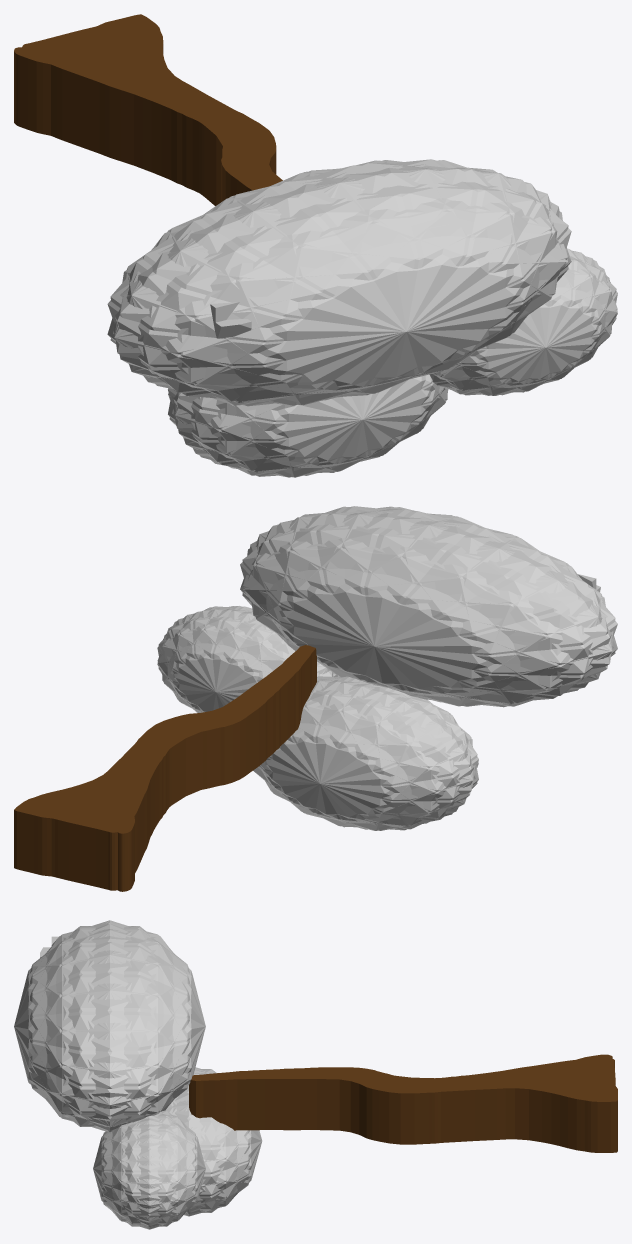
File: arbol1.obj
The picture shows the model from 3 angles, top to bottom: view 1: azimuth 30°, elevation 25°; view 2: azimuth 150°, elevation 25°; view 3: azimuth 270°, elevation 25°; orthographic projection. The views are drawn at different scales.
Parts seen in each view (by area): view 1: group_0_1206582, group_0_6306067; view 2: group_0_1206582, group_0_6306067; view 3: group_0_1206582, group_0_6306067.
Boxes of the visible parts, x1=… form: group_0_1206582: x1=107, y1=159, x2=617, y2=477; group_0_6306067: x1=14, y1=14, x2=282, y2=205; group_0_1206582: x1=157, y1=506, x2=617, y2=830; group_0_6306067: x1=14, y1=645, x2=316, y2=891; group_0_1206582: x1=14, y1=920, x2=262, y2=1229; group_0_6306067: x1=189, y1=1054, x2=617, y2=1152.
Bounding box in the file's own units: 77 × 46 × 107.
